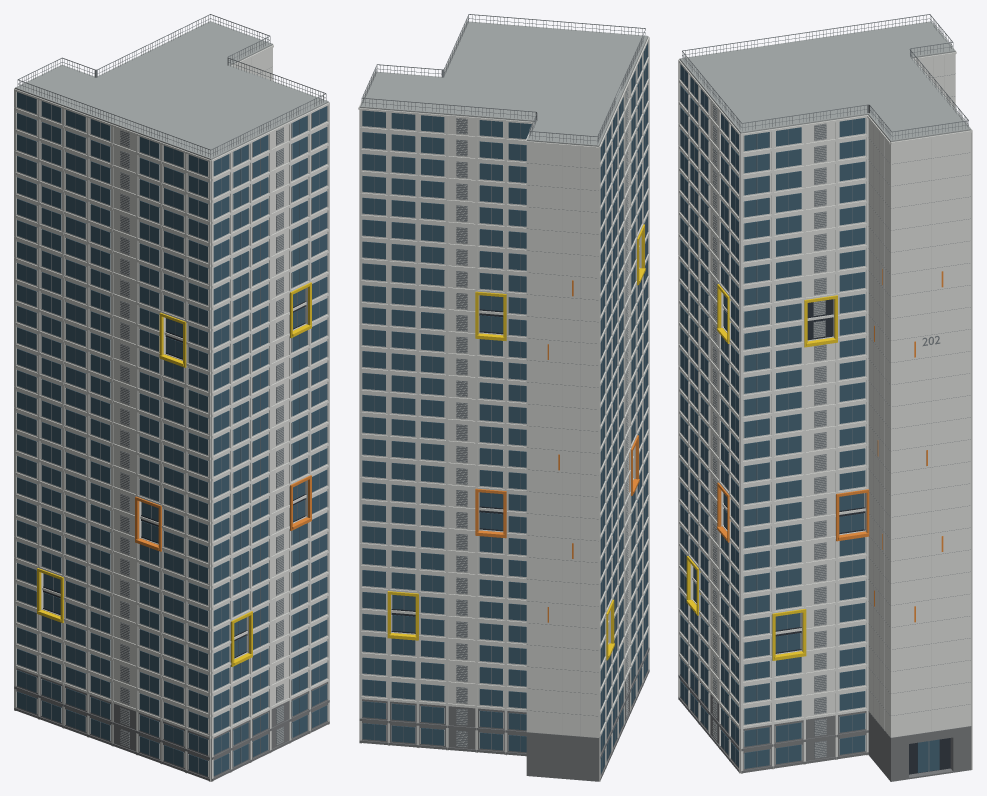
File: bespoke-songpa-helio-city-202.glb
3 views of the same model, side by side, from view 1: azimuth 30°, elevation 25°; view 2: azimuth 150°, elevation 25°; view 3: azimuth 270°, elevation 25° (orthographic). The views are drawn at different scales.
Visible parts, largest first — view 1: Helio202_editable_Helio202_dark_blue_grey_glazing, Helio202_editable_Helio202_white_slab_frames, Helio202_editable_Helio202_low_roof_deck, Helio202_editable_Helio202_grey_service_grille, Helio202_editable_Helio202_dark_grey_twofloor_base, Helio202_editable_Helio202_blankwall_grey_panels, Helio202_editable_Helio202_yellow_projecting_rectangular_fra, Helio202_editable_Helio202_orange_narrow_accent, Helio202_editable_Helio202_deep_shaded_frame_recess; view 2: Helio202_editable_Helio202_white_slab_frames, Helio202_editable_Helio202_dark_blue_grey_glazing, Helio202_editable_Helio202_low_roof_deck, Helio202_editable_Helio202_grey_service_grille, Helio202_editable_Helio202_dark_grey_twofloor_base, Helio202_editable_Helio202_blankwall_grey_panels, Helio202_editable_Helio202_yellow_projecting_rectangular_fra, Helio202_editable_Helio202_orange_narrow_accent, Helio202_editable_Helio202_deep_shaded_frame_recess; view 3: Helio202_editable_Helio202_white_slab_frames, Helio202_editable_Helio202_dark_blue_grey_glazing, Helio202_editable_Helio202_low_roof_deck, Helio202_editable_Helio202_grey_service_grille, Helio202_editable_Helio202_dark_grey_twofloor_base, Helio202_editable_Helio202_blankwall_grey_panels, Helio202_editable_Helio202_yellow_projecting_rectangular_fra, Helio202_editable_Helio202_deep_shaded_frame_recess, Helio202_editable_Helio202_orange_narrow_accent.
Boxes of the visible parts, bbox=[...] form: Helio202_editable_Helio202_dark_blue_grey_glazing: bbox=[17, 92, 327, 776]; Helio202_editable_Helio202_white_slab_frames: bbox=[14, 44, 329, 781]; Helio202_editable_Helio202_low_roof_deck: bbox=[15, 21, 328, 159]; Helio202_editable_Helio202_grey_service_grille: bbox=[17, 14, 326, 773]; Helio202_editable_Helio202_dark_grey_twofloor_base: bbox=[14, 668, 329, 781]; Helio202_editable_Helio202_blankwall_grey_panels: bbox=[120, 58, 283, 747]; Helio202_editable_Helio202_yellow_projecting_rectangular_fra: bbox=[37, 282, 311, 666]; Helio202_editable_Helio202_orange_narrow_accent: bbox=[135, 475, 311, 551]; Helio202_editable_Helio202_deep_shaded_frame_recess: bbox=[43, 301, 305, 658]; Helio202_editable_Helio202_white_slab_frames: bbox=[358, 22, 649, 781]; Helio202_editable_Helio202_dark_blue_grey_glazing: bbox=[362, 43, 647, 774]; Helio202_editable_Helio202_low_roof_deck: bbox=[359, 21, 648, 146]; Helio202_editable_Helio202_grey_service_grille: bbox=[361, 14, 645, 770]; Helio202_editable_Helio202_dark_grey_twofloor_base: bbox=[359, 631, 649, 781]; Helio202_editable_Helio202_blankwall_grey_panels: bbox=[456, 87, 628, 746]; Helio202_editable_Helio202_yellow_projecting_rectangular_fra: bbox=[387, 224, 645, 660]; Helio202_editable_Helio202_orange_narrow_accent: bbox=[475, 280, 639, 622]; Helio202_editable_Helio202_deep_shaded_frame_recess: bbox=[391, 295, 503, 633]; Helio202_editable_Helio202_white_slab_frames: bbox=[678, 22, 972, 773]; Helio202_editable_Helio202_dark_blue_grey_glazing: bbox=[680, 64, 939, 772]; Helio202_editable_Helio202_low_roof_deck: bbox=[679, 21, 971, 141]; Helio202_editable_Helio202_grey_service_grille: bbox=[682, 14, 970, 771]; Helio202_editable_Helio202_dark_grey_twofloor_base: bbox=[678, 657, 971, 781]; Helio202_editable_Helio202_blankwall_grey_panels: bbox=[712, 56, 944, 757]; Helio202_editable_Helio202_yellow_projecting_rectangular_fra: bbox=[686, 284, 837, 660]; Helio202_editable_Helio202_deep_shaded_frame_recess: bbox=[693, 299, 950, 774]; Helio202_editable_Helio202_orange_narrow_accent: bbox=[717, 269, 943, 622].
Bounding box in the file's own units: 32.78 × 82.2 × 33.75.
